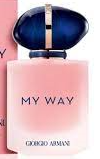armani_my_way_floral: (5, 4, 91, 156)
